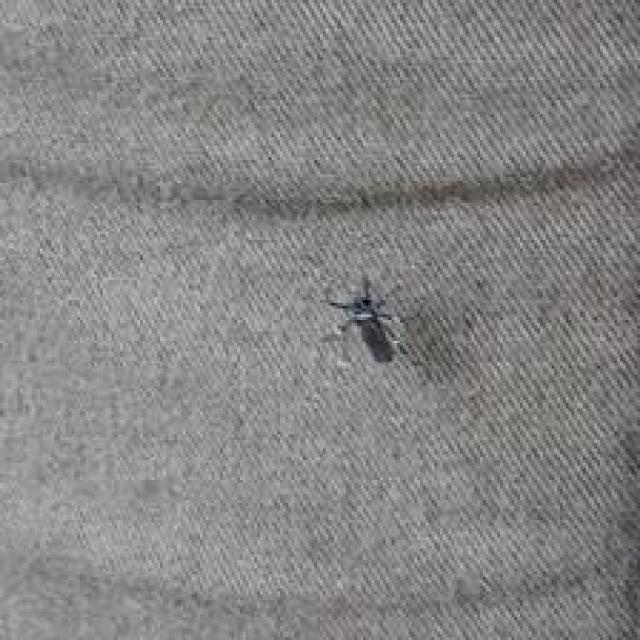Aedes albopictus: (324, 270, 413, 359)
